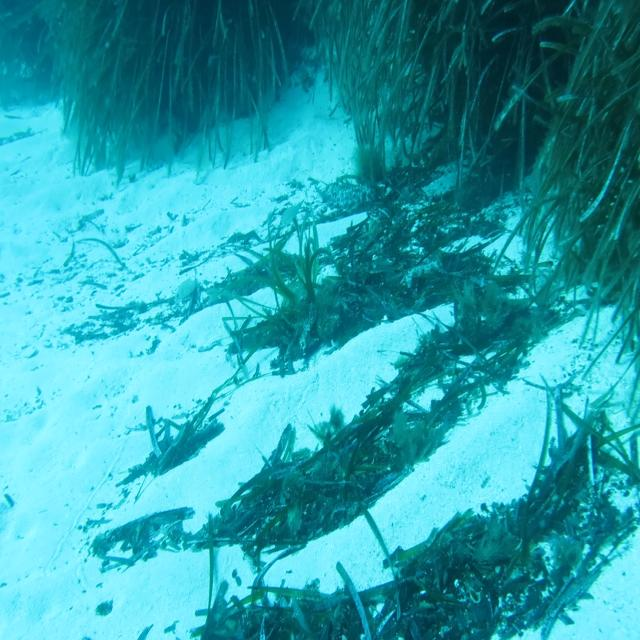BN: (170, 274, 206, 312)
female: (274, 196, 308, 234)
vegetation: (190, 279, 543, 555), (197, 424, 630, 635), (502, 0, 640, 335), (314, 0, 545, 165), (79, 0, 268, 99), (312, 258, 415, 314), (218, 317, 308, 360), (94, 514, 187, 546)
